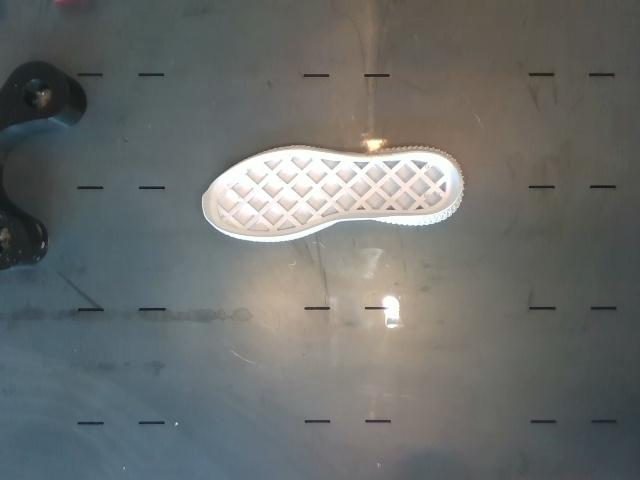shoes: (202, 150, 461, 238)
